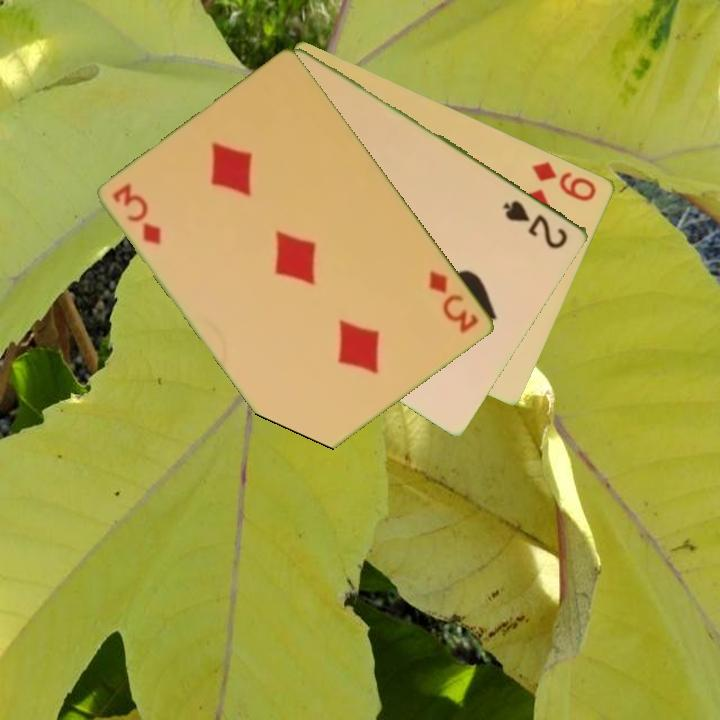2s: (500, 196, 572, 252)
3d: (425, 267, 483, 336), (109, 180, 165, 248)
9d: (529, 158, 600, 205)
